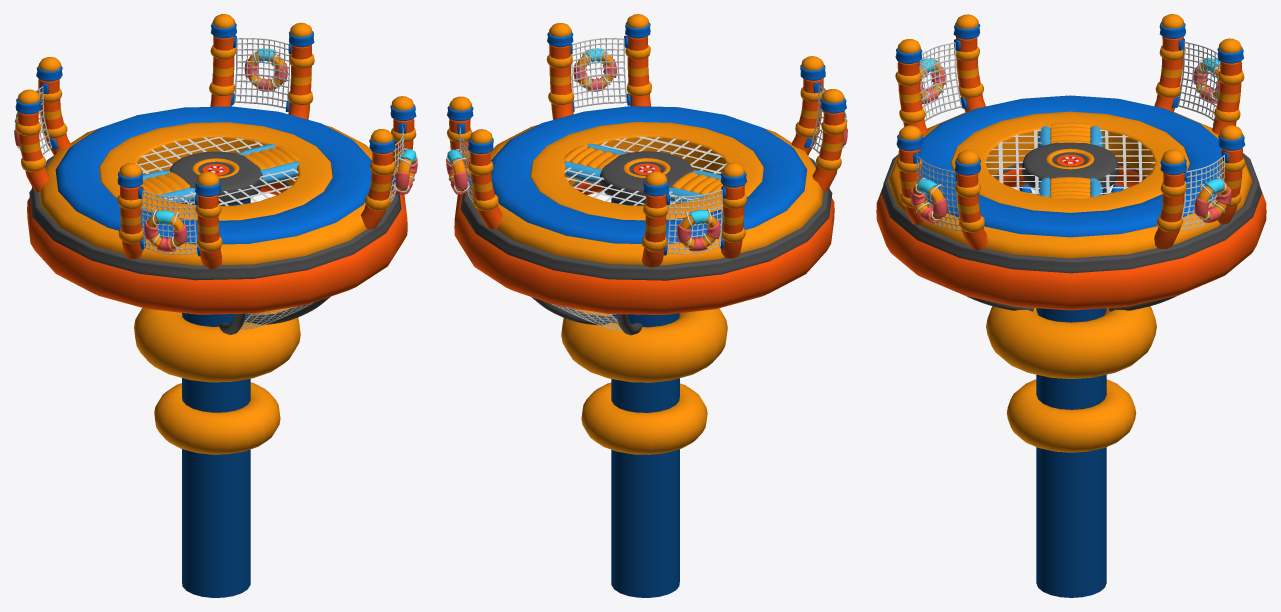
The model's file is ring_v3.fbx.
3 views of the same model, side by side, from view 1: azimuth 30°, elevation 25°; view 2: azimuth 150°, elevation 25°; view 3: azimuth 270°, elevation 25° (orthographic). The views are drawn at different scales.
Parts seen in each view (by area): view 1: base, walls, details, nets; view 2: base, walls, details, nets; view 3: base, walls, details, nets.
Part boxes in pixels (left/top/right/bottom): base: left=27, top=106, right=407, bottom=597; walls: left=14, top=14, right=417, bottom=268; details: left=134, top=307, right=300, bottom=454; nets: left=218, top=296, right=330, bottom=334; base: left=454, top=106, right=834, bottom=597; walls: left=446, top=14, right=847, bottom=267; details: left=561, top=308, right=727, bottom=454; nets: left=531, top=297, right=642, bottom=335; base: left=876, top=95, right=1266, bottom=597; walls: left=895, top=14, right=1245, bottom=250; details: left=986, top=306, right=1156, bottom=452; nets: left=966, top=184, right=1176, bottom=311.
Size of the model in its own units: 2993 by 4228 by 2993.
